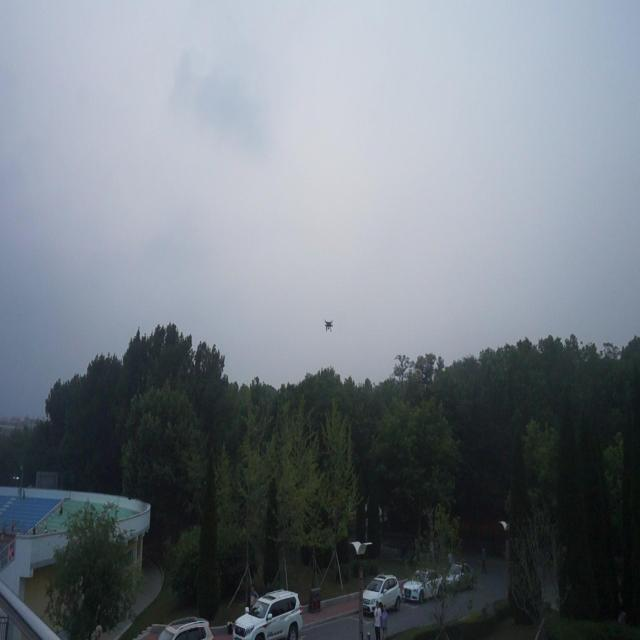drone: (322, 316, 336, 337)
